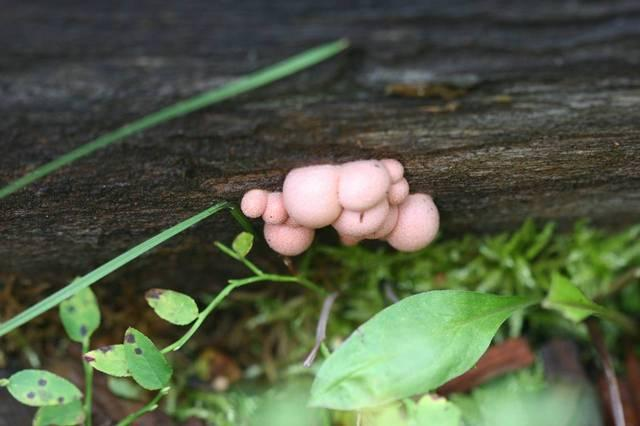Non-edible Mushroom: (239, 156, 440, 257), (385, 191, 440, 252)
